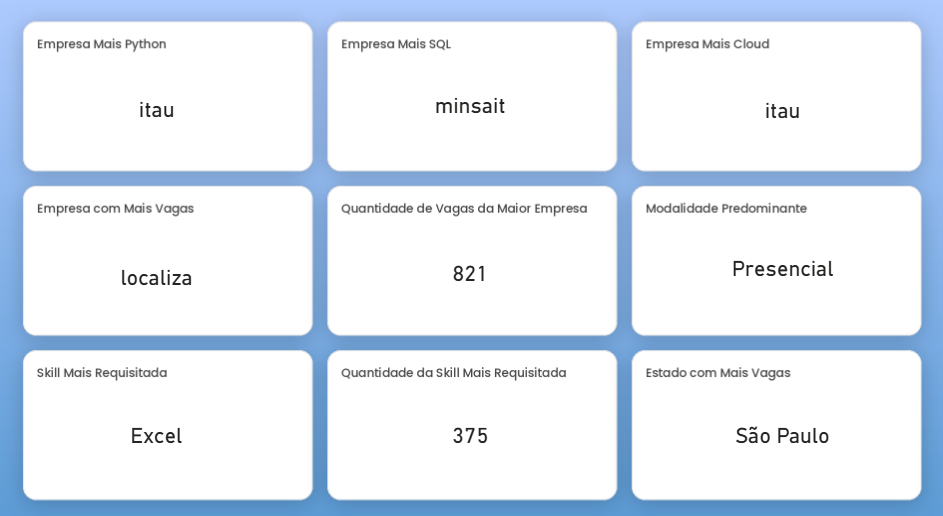

The dashboard page shown, as its layout file describes it:
{"tool":"powerbi","page":{"name":"Análises Estratégicas","canvas":[1280,720],"ordinal":1},"visuals":[{"type":"card","fields":{"Values":["Medidas.Empresa com Mais Vagas"]},"box":[98.4,321.8,239.5,113.1],"z":0},{"type":"card","fields":{"Values":["Medidas.Estado com Mais Vagas"]},"box":[908.1,529,292.4,119],"z":1000},{"type":"card","fields":{"Values":["Medidas.Modalidade Predominante"]},"box":[928.7,310,252.7,111.7],"z":2000},{"type":"card","fields":{"Values":["Medidas.Skill Mais Requisitada"]},"box":[89.6,543.7,257.1,91.1],"z":3000},{"type":"card","fields":{"Values":["Medidas.Qtd Skill Mais Requisitada"]},"box":[536.3,536.3,204.2,105.8],"z":4000},{"type":"card","fields":{"Values":["Medidas.Qtd Vagas Maior Empresa"]},"box":[509.9,310,254.2,124.9],"z":5000},{"type":"card","fields":{"Values":["Medidas.Empresa Mais SQL"]},"box":[509.9,85.2,254.2,124.9],"z":8001},{"type":"card","fields":{"Values":["Medidas.Empresa Mais Python"]},"box":[98.4,97,239.5,113.1],"z":8002},{"type":"card","fields":{"Values":["Medidas.Empresa Mais Cloud"]},"box":[928.7,98.4,252.7,111.7],"z":8003}]}

Visuals, with their boxes in screenshot pixels (x1, y1, x2, y2), scaled from the page's 1280x720 canvas onto the 943x516 screenshot:
card - Medidas.Empresa com Mais Vagas: 72/231/249/312
card - Medidas.Estado com Mais Vagas: 669/379/884/464
card - Medidas.Modalidade Predominante: 684/222/870/302
card - Medidas.Skill Mais Requisitada: 66/390/255/455
card - Medidas.Qtd Skill Mais Requisitada: 395/384/546/460
card - Medidas.Qtd Vagas Maior Empresa: 376/222/563/312
card - Medidas.Empresa Mais SQL: 376/61/563/151
card - Medidas.Empresa Mais Python: 72/70/249/151
card - Medidas.Empresa Mais Cloud: 684/71/870/151
